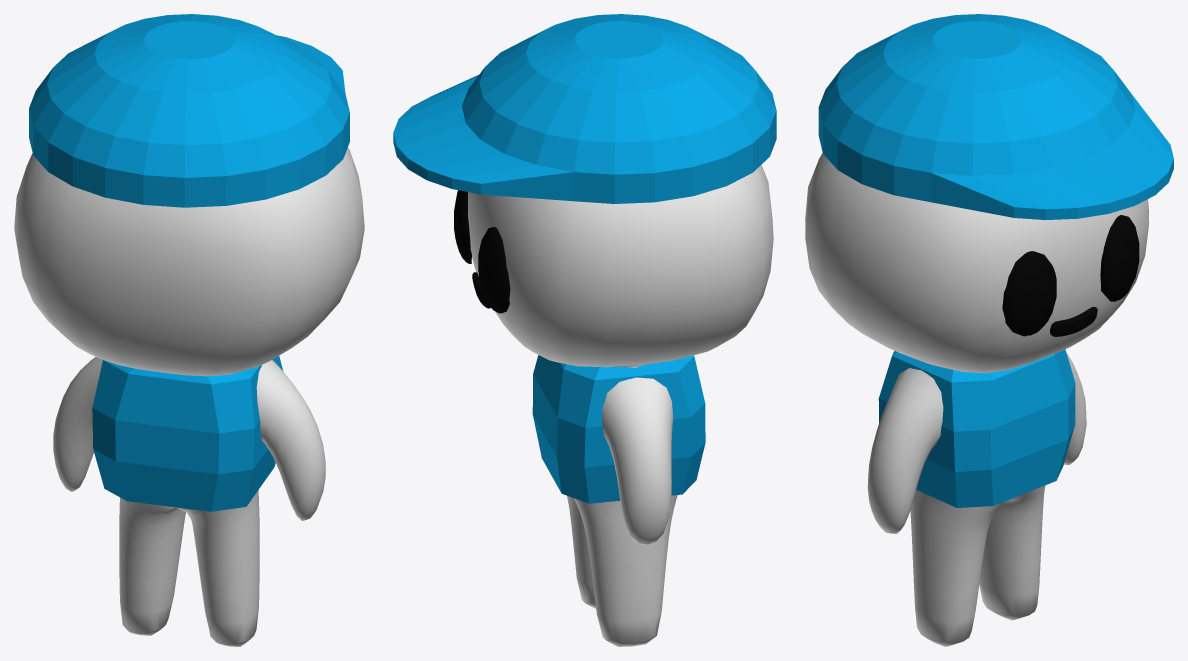
The model's file is Vendedor de agua.fbx.
3 renders of one model, left to right at view 1: azimuth 30°, elevation 25°; view 2: azimuth 150°, elevation 25°; view 3: azimuth 270°, elevation 25°, orthographic.
Parts seen in each view (by area): view 1: Boneco.004, Circle, Cube; view 2: Boneco.004, Circle, Cube, Olhos.004; view 3: Boneco.004, Circle, Cube, Olhos.004, Boca.004.
Boxes of the visible parts, x1,y1,x2,y2 form: Boneco.004: (14,147,364,646); Circle: (29,14,349,207); Cube: (92,356,282,511); Boneco.004: (468,165,773,646); Circle: (393,14,776,203); Cube: (532,355,705,503); Olhos.004: (454,190,510,313); Boneco.004: (805,153,1149,646); Circle: (818,14,1173,219); Cube: (878,349,1075,507); Olhos.004: (1002,215,1139,336); Boca.004: (1050,307,1097,336).
Size of the model in its own units: 149 by 260 by 148.
